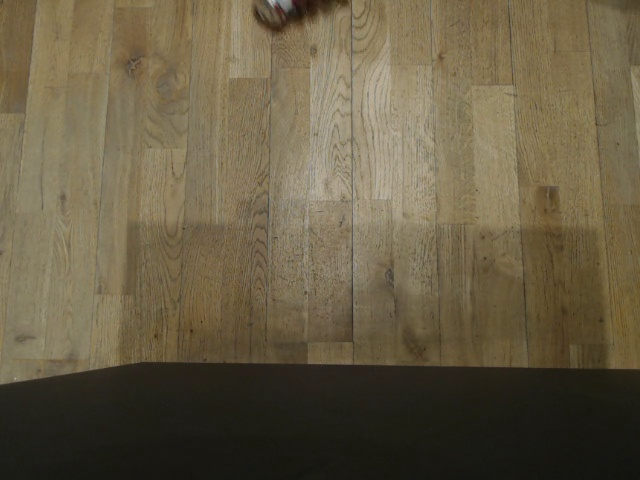cola: (256, 0, 299, 33)
